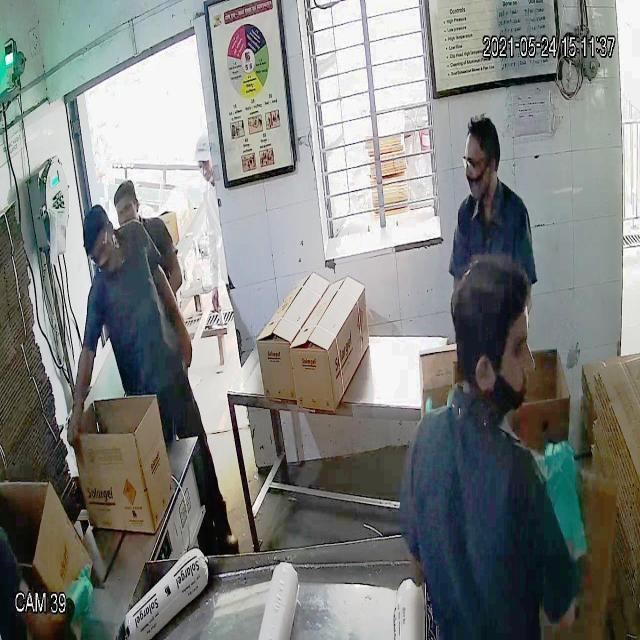glasses: (458, 307, 536, 366), (462, 150, 498, 176)
